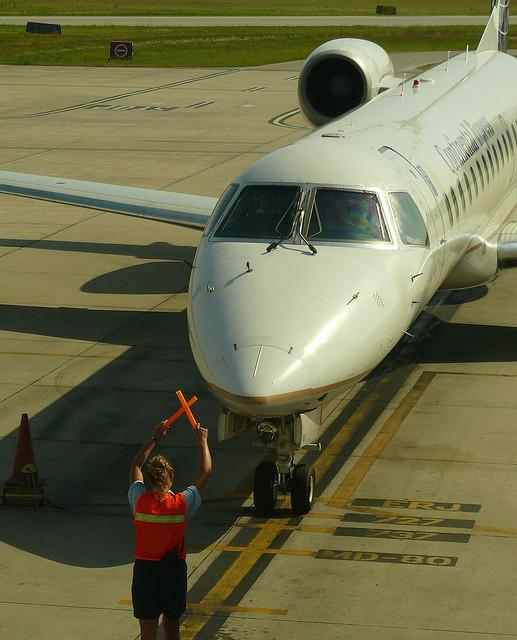airplane: (0, 0, 517, 514)
